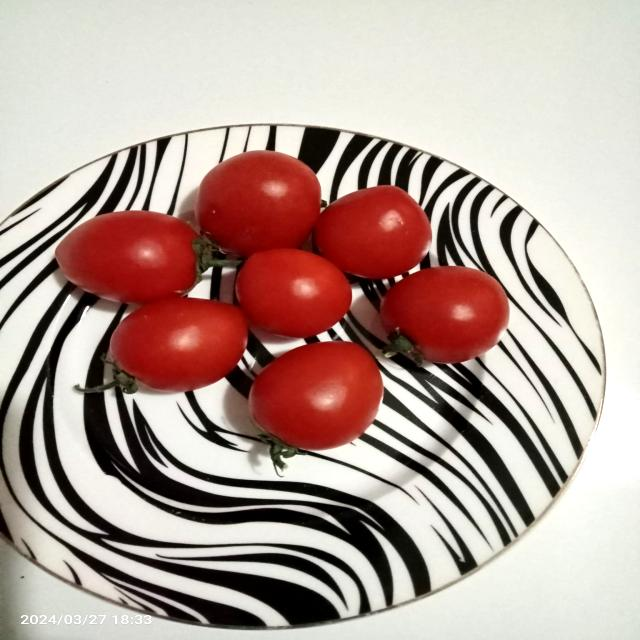tomato: (232, 327, 400, 475), (361, 254, 533, 372), (87, 288, 266, 392), (44, 203, 230, 303), (192, 142, 339, 255), (214, 240, 371, 338), (310, 181, 450, 278)
